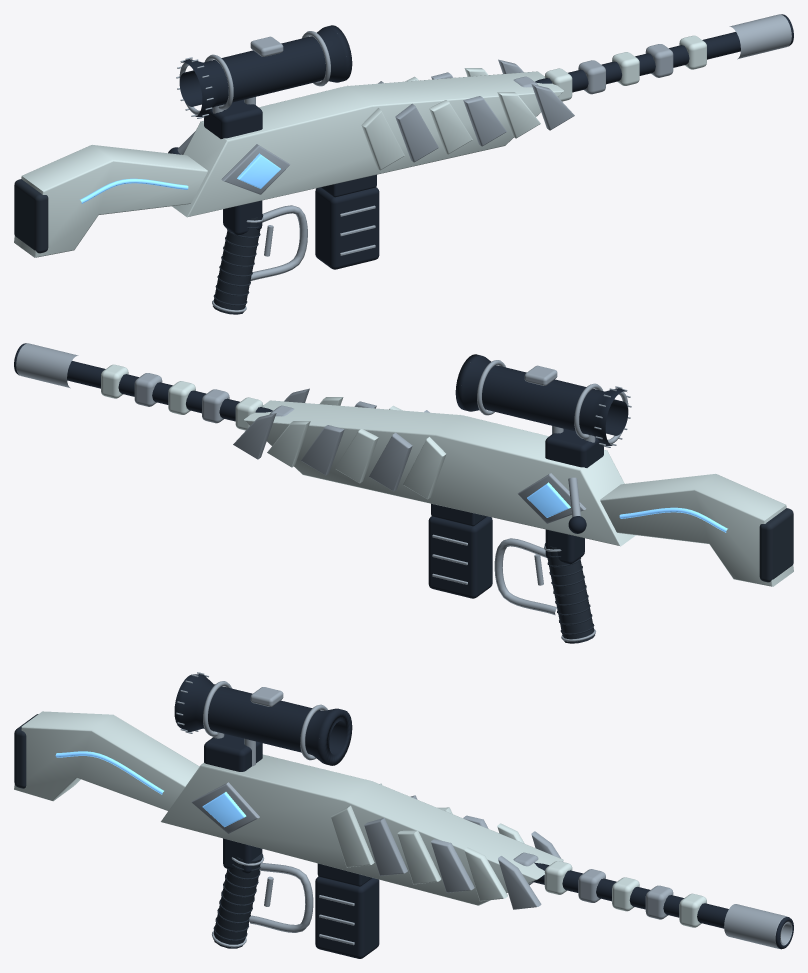
Rendered from glacier-survey.glb.
3 views of the same model, one above another, from view 1: azimuth 30°, elevation 25°; view 2: azimuth 150°, elevation 25°; view 3: azimuth 330°, elevation 25° (orthographic).
Visible parts, largest first — view 1: 05_Longnight_Sniper__body_Sculpt_coat, 05_Longnight_Sniper__stock_Sculpt_coat, 05_Longnight_Sniper__body_Sculpt_metal, 05_Longnight_Sniper__optic_Sculpt_frame, 05_Longnight_Sniper__magazine_Sculpt_frame, 05_Longnight_Sniper__body_Sculpt_frame, 05_Longnight_Sniper__body_Sculpt_grip, 05_Longnight_Sniper__stock_Sculpt_grip, 05_Longnight_Sniper__optic_Sculpt_metal, 05_Longnight_Sniper__body_Sculpt_glow, 05_Longnight_Sniper__stock_Sculpt_glow; view 2: 05_Longnight_Sniper__body_Sculpt_coat, 05_Longnight_Sniper__stock_Sculpt_coat, 05_Longnight_Sniper__body_Sculpt_metal, 05_Longnight_Sniper__optic_Sculpt_frame, 05_Longnight_Sniper__magazine_Sculpt_frame, 05_Longnight_Sniper__body_Sculpt_frame, 05_Longnight_Sniper__body_Sculpt_grip, 05_Longnight_Sniper__stock_Sculpt_grip, 05_Longnight_Sniper__optic_Sculpt_metal, 05_Longnight_Sniper__body_Sculpt_glow, 05_Longnight_Sniper__stock_Sculpt_glow; view 3: 05_Longnight_Sniper__body_Sculpt_coat, 05_Longnight_Sniper__stock_Sculpt_coat, 05_Longnight_Sniper__body_Sculpt_metal, 05_Longnight_Sniper__optic_Sculpt_frame, 05_Longnight_Sniper__magazine_Sculpt_frame, 05_Longnight_Sniper__body_Sculpt_frame, 05_Longnight_Sniper__body_Sculpt_grip, 05_Longnight_Sniper__optic_Sculpt_metal, 05_Longnight_Sniper__body_Sculpt_glow, 05_Longnight_Sniper__stock_Sculpt_grip, 05_Longnight_Sniper__stock_Sculpt_glow.
Boxes of the visible parts, x1=… form: 05_Longnight_Sniper__body_Sculpt_coat: x1=172, y1=35, x2=706, y2=217; 05_Longnight_Sniper__stock_Sculpt_coat: x1=14, y1=145, x2=207, y2=257; 05_Longnight_Sniper__body_Sculpt_metal: x1=212, y1=14, x2=791, y2=312; 05_Longnight_Sniper__optic_Sculpt_frame: x1=179, y1=25, x2=352, y2=138; 05_Longnight_Sniper__magazine_Sculpt_frame: x1=315, y1=187, x2=379, y2=269; 05_Longnight_Sniper__body_Sculpt_frame: x1=223, y1=14, x2=793, y2=235; 05_Longnight_Sniper__body_Sculpt_grip: x1=213, y1=214, x2=263, y2=314; 05_Longnight_Sniper__stock_Sculpt_grip: x1=14, y1=179, x2=48, y2=253; 05_Longnight_Sniper__optic_Sculpt_metal: x1=176, y1=31, x2=330, y2=118; 05_Longnight_Sniper__body_Sculpt_glow: x1=237, y1=153, x2=280, y2=188; 05_Longnight_Sniper__stock_Sculpt_glow: x1=80, y1=178, x2=188, y2=203; 05_Longnight_Sniper__body_Sculpt_coat: x1=101, y1=364, x2=635, y2=546; 05_Longnight_Sniper__stock_Sculpt_coat: x1=600, y1=474, x2=793, y2=586; 05_Longnight_Sniper__body_Sculpt_metal: x1=16, y1=343, x2=595, y2=641; 05_Longnight_Sniper__optic_Sculpt_frame: x1=455, y1=354, x2=628, y2=467; 05_Longnight_Sniper__magazine_Sculpt_frame: x1=428, y1=516, x2=492, y2=598; 05_Longnight_Sniper__body_Sculpt_frame: x1=14, y1=343, x2=584, y2=564; 05_Longnight_Sniper__body_Sculpt_grip: x1=544, y1=543, x2=594, y2=643; 05_Longnight_Sniper__stock_Sculpt_grip: x1=759, y1=508, x2=793, y2=582; 05_Longnight_Sniper__optic_Sculpt_metal: x1=477, y1=360, x2=631, y2=447; 05_Longnight_Sniper__body_Sculpt_glow: x1=527, y1=482, x2=570, y2=517; 05_Longnight_Sniper__stock_Sculpt_glow: x1=619, y1=507, x2=727, y2=532; 05_Longnight_Sniper__body_Sculpt_coat: x1=161, y1=754, x2=706, y2=927; 05_Longnight_Sniper__stock_Sculpt_coat: x1=14, y1=711, x2=199, y2=810; 05_Longnight_Sniper__body_Sculpt_metal: x1=191, y1=782, x2=792, y2=948; 05_Longnight_Sniper__optic_Sculpt_frame: x1=174, y1=674, x2=352, y2=771; 05_Longnight_Sniper__magazine_Sculpt_frame: x1=315, y1=876, x2=379, y2=958; 05_Longnight_Sniper__body_Sculpt_frame: x1=223, y1=838, x2=793, y2=949; 05_Longnight_Sniper__body_Sculpt_grip: x1=213, y1=853, x2=263, y2=948; 05_Longnight_Sniper__optic_Sculpt_metal: x1=176, y1=672, x2=327, y2=766; 05_Longnight_Sniper__body_Sculpt_glow: x1=202, y1=792, x2=246, y2=827; 05_Longnight_Sniper__stock_Sculpt_grip: x1=14, y1=714, x2=38, y2=788; 05_Longnight_Sniper__stock_Sculpt_glow: x1=55, y1=751, x2=163, y2=794.
Size of the model in its own units: 4.08 by 1.33 by 0.4675.
